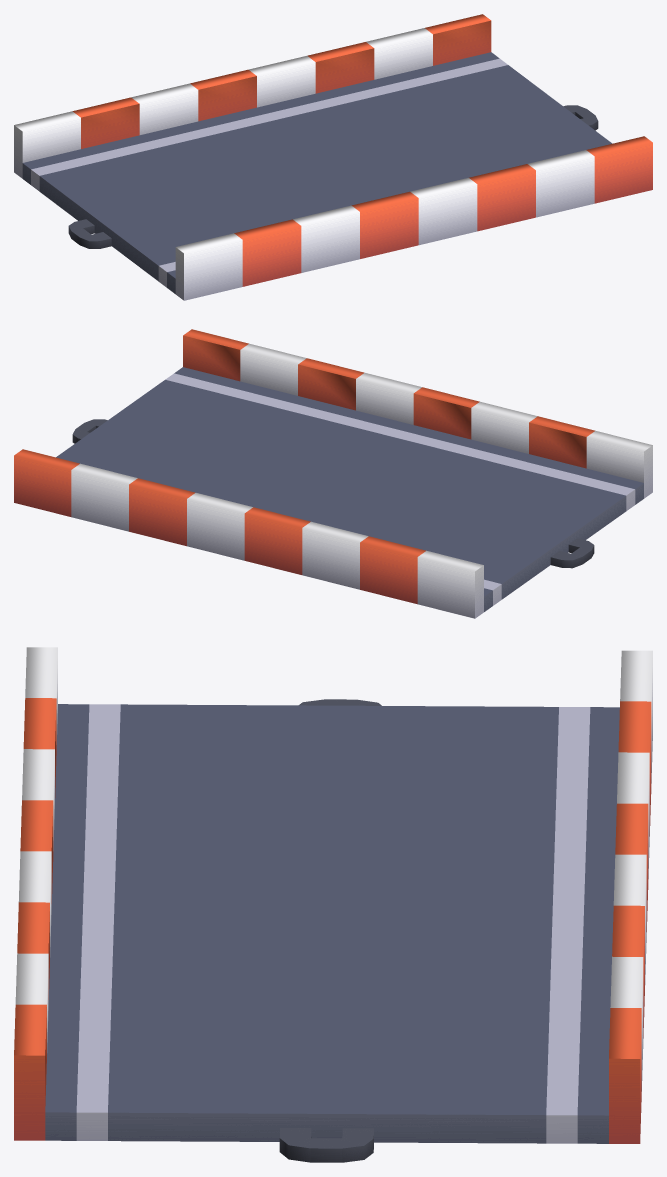
Rendered from track-road-wide-straight.037_lev2.glb.
3 renders of one model, top to bottom at view 1: azimuth 30°, elevation 25°; view 2: azimuth 150°, elevation 25°; view 3: azimuth 270°, elevation 25°, orthographic. The views are drawn at different scales.
Visible parts, largest first — view 1: track-road-wide-straight.037_lev2; view 2: track-road-wide-straight.037_lev2; view 3: track-road-wide-straight.037_lev2.
Boxes of the visible parts, x1=… form: track-road-wide-straight.037_lev2: x1=14, y1=14, x2=652, y2=300; track-road-wide-straight.037_lev2: x1=14, y1=329, x2=652, y2=618; track-road-wide-straight.037_lev2: x1=14, y1=647, x2=652, y2=1162.
Bounding box in the file's own units: 3.39 × 0.3 × 2.04.
Materials: 1 (1 with a texture image).
